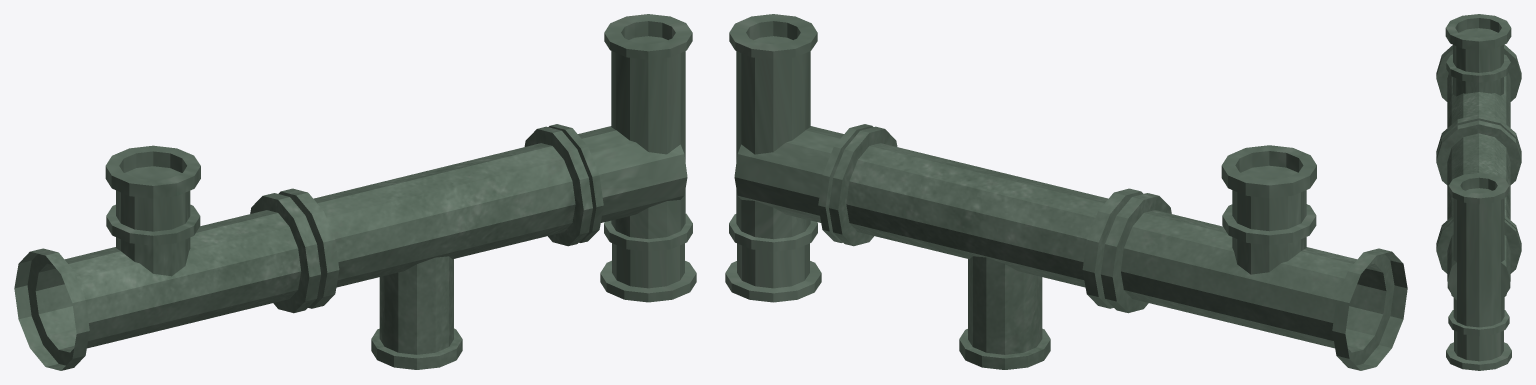
Rendered from trubastraight.fbx.
The picture shows the model from 3 angles, left to right: view 1: azimuth 30°, elevation 25°; view 2: azimuth 150°, elevation 25°; view 3: azimuth 270°, elevation 25°; orthographic projection. The views are drawn at different scales.
Visible parts, largest first — view 1: truba2; view 2: truba2; view 3: truba2.
Boxes of the visible parts, left/top/right/bottom form: truba2: left=14, top=14, right=696, bottom=370; truba2: left=725, top=14, right=1407, bottom=370; truba2: left=1436, top=14, right=1521, bottom=370.
Bounding box in the file's own units: 44.84 × 17.39 × 7.51.
1 material, 1 textured.
